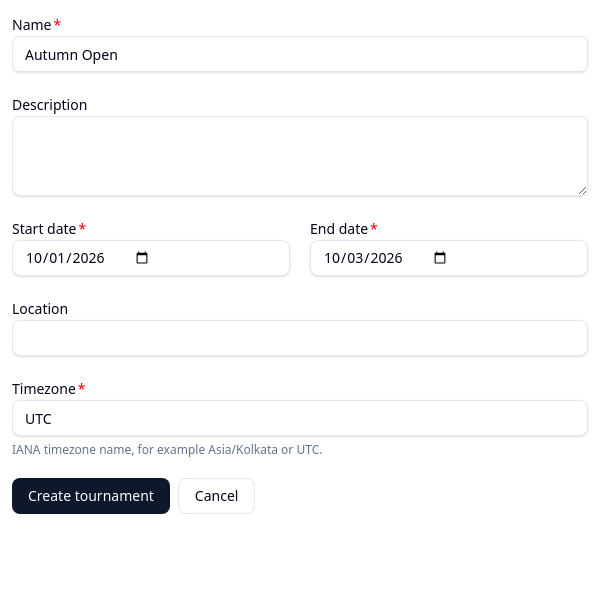
Test: TournamentForm › preserves entered values and shows a server conflict message
Type " extra" into the field labelled "Name*" at (300, 54), box x1=12 y1=36 x2=588 y2=72
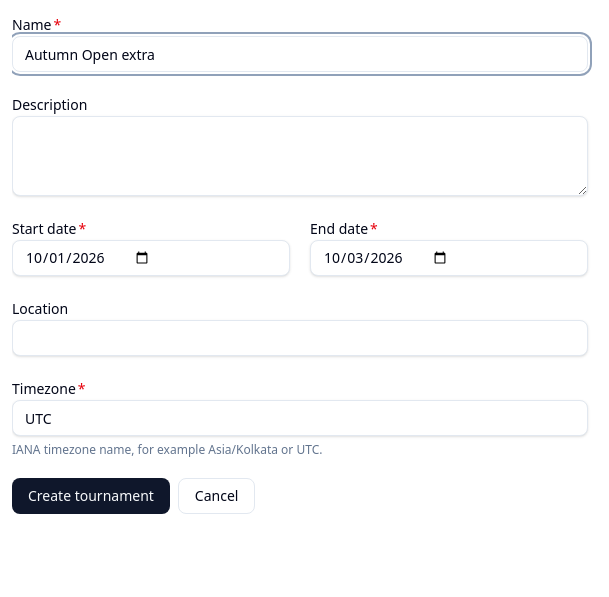
Click the button "Create tournament" at (91, 496), box x1=12 y1=478 x2=170 y2=514
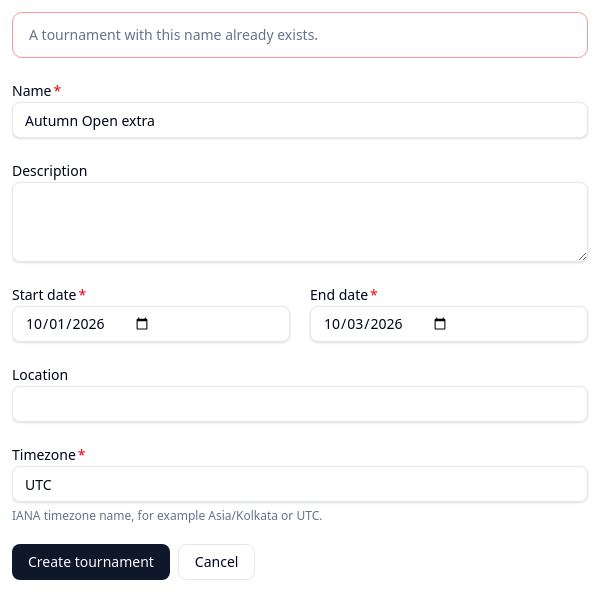
Now the field labelled "Name*" holds "Autumn Open extra", box x1=12 y1=102 x2=588 y2=138
Now the text "A tournament with this name already exists." is shown, box x1=29 y1=25 x2=318 y2=44
